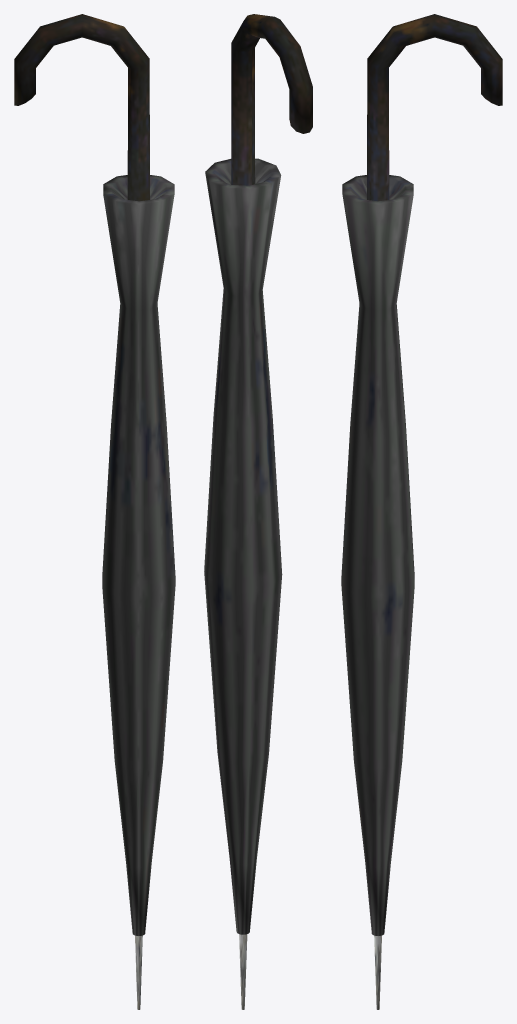
The model's file is Penguin_Umbrella.obj.
3 renders of one model, left to right at view 1: azimuth 90°, elevation 25°; view 2: azimuth 210°, elevation 25°; view 3: azimuth 270°, elevation 25°, orthographic.
Visible parts, largest first — view 1: Penguin_Umbrella; view 2: Penguin_Umbrella; view 3: Penguin_Umbrella.
Boxes of the visible parts, x1=… form: Penguin_Umbrella: x1=14, y1=14, x2=175, y2=1009; Penguin_Umbrella: x1=204, y1=14, x2=312, y2=1009; Penguin_Umbrella: x1=341, y1=14, x2=502, y2=1009.
Bounding box in the file's own units: 0.1372 × 1.95 × 0.2868.
1 material, 1 textured.
